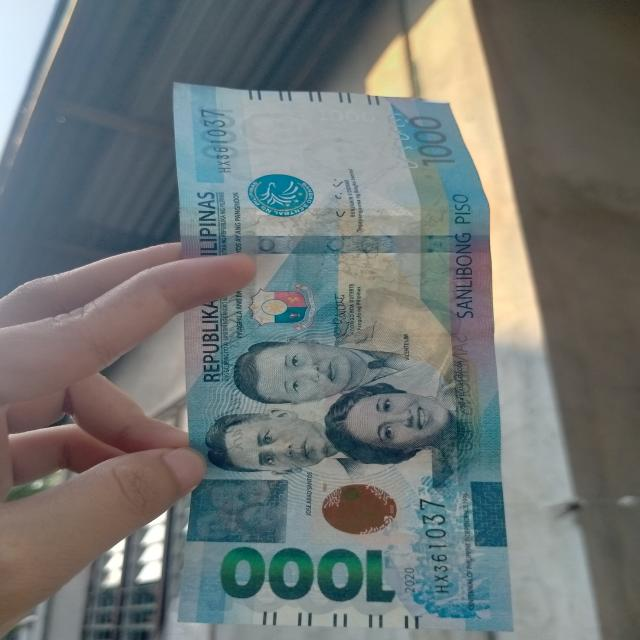concealed_value: (188, 478, 289, 544)
optically_variable_device: (310, 479, 408, 539)
security_thread: (181, 233, 491, 256)
see_through_mark: (384, 110, 420, 170)
serial_number: (415, 493, 458, 599), (198, 106, 236, 175)
value: (222, 538, 396, 606)
watermark: (223, 111, 383, 177)
